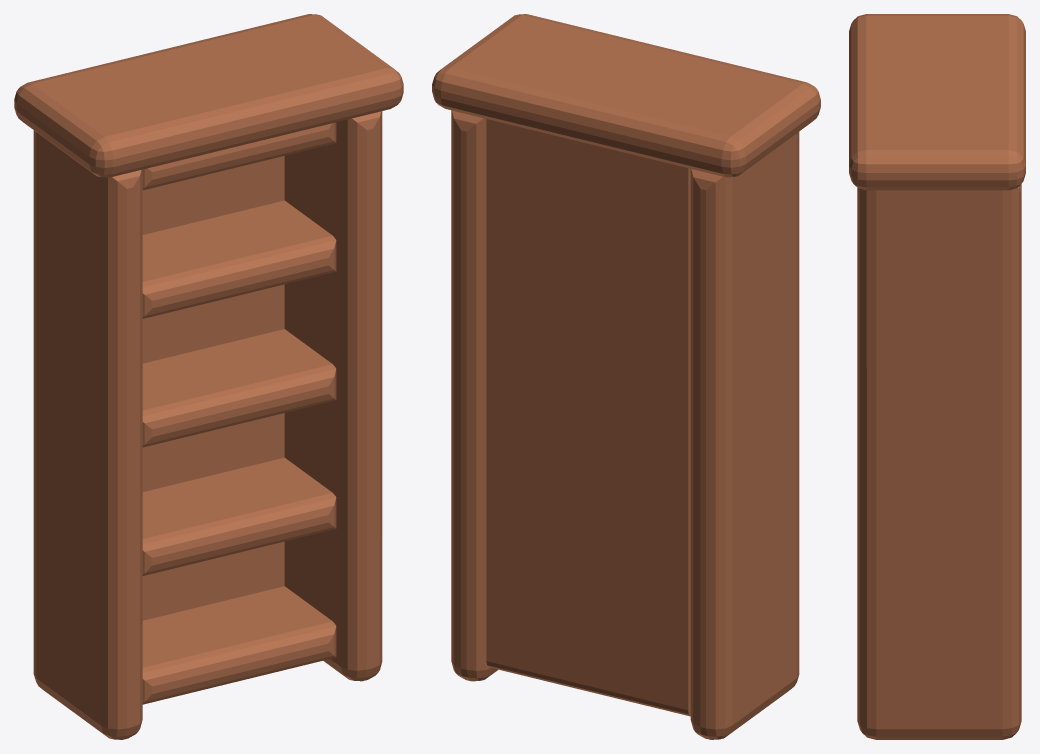
File: BookCase.fbx
3 views of the same model, side by side, from view 1: azimuth 30°, elevation 25°; view 2: azimuth 150°, elevation 25°; view 3: azimuth 270°, elevation 25° (orthographic). The views are drawn at different scales.
Parts seen in each view (by area): view 1: BookCase; view 2: BookCase; view 3: BookCase.
Boxes of the visible parts, x1,y1,x2,y2 form: BookCase: [14, 14, 403, 739]; BookCase: [432, 14, 820, 739]; BookCase: [849, 14, 1025, 739].
Bounding box in the file's own units: 1.42 × 2.65 × 0.7129.
1 material, 1 textured.
